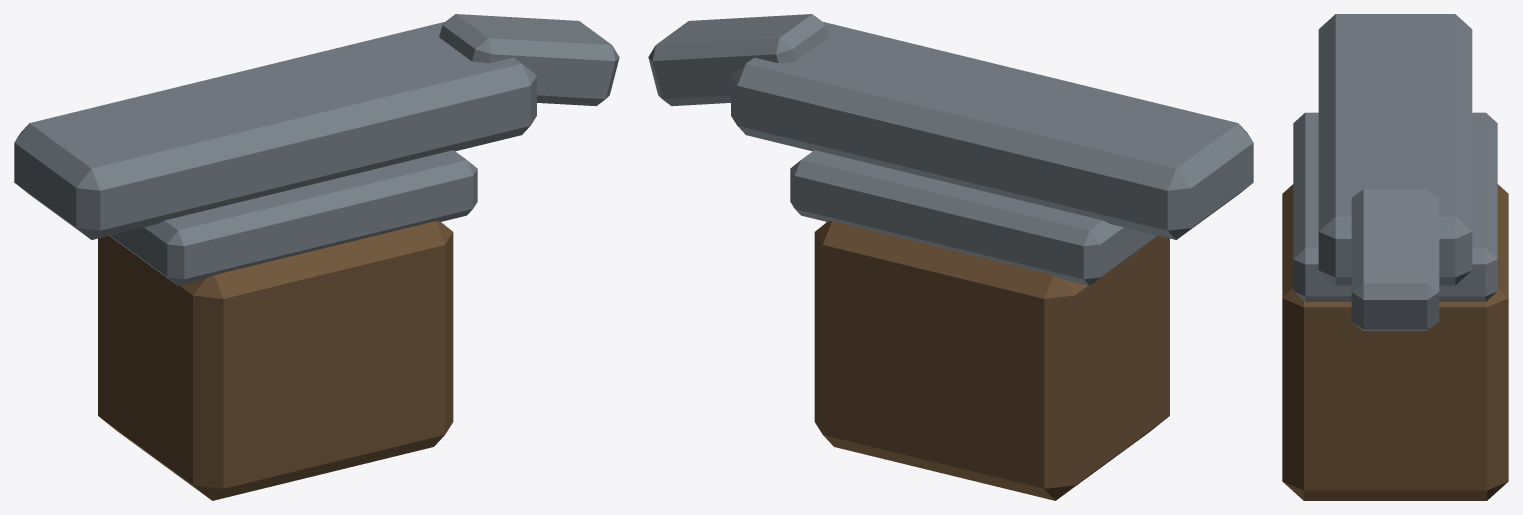
Rendered from town_forge_anvil.glb.
3 renders of one model, left to right at view 1: azimuth 30°, elevation 25°; view 2: azimuth 150°, elevation 25°; view 3: azimuth 270°, elevation 25°, orthographic. The views are drawn at different scales.
Size of the model in its own units: 1.29 by 0.8085 by 0.4712.
